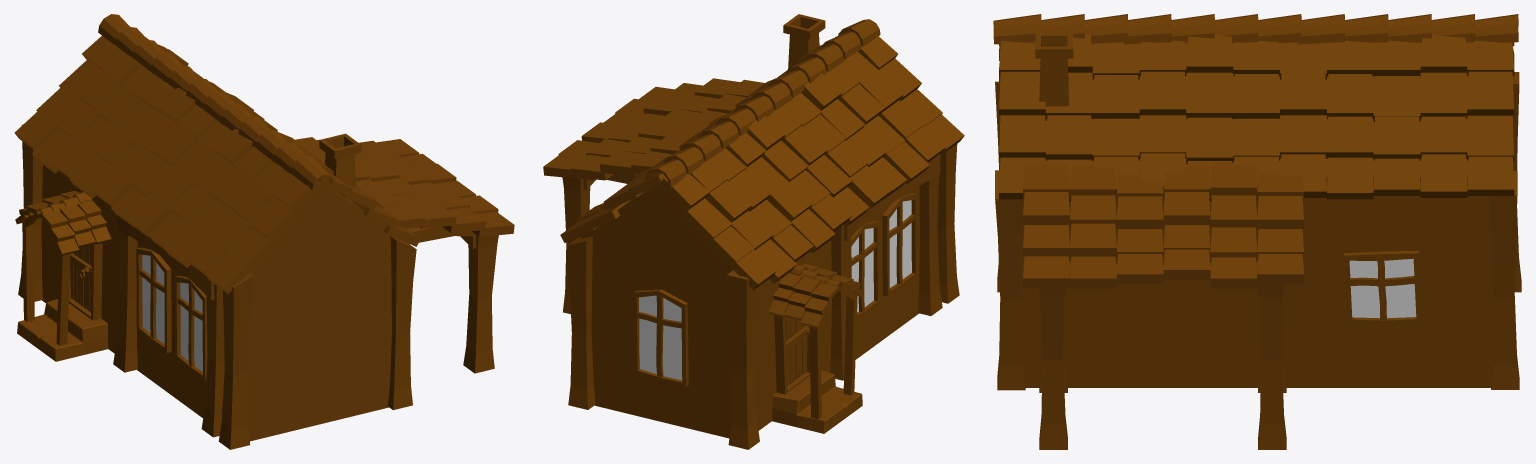
The model's file is дом5 .fbx.
The picture shows the model from 3 angles, left to right: view 1: azimuth 30°, elevation 25°; view 2: azimuth 150°, elevation 25°; view 3: azimuth 270°, elevation 25°; orthographic projection. The views are drawn at different scales.
Parts seen in each view (by area): view 1: Куб.015; view 2: Куб.015; view 3: Куб.015.
Boxes of the visible parts, x1,y1,x2,y2 form: Куб.015: [14, 14, 514, 449]; Куб.015: [543, 14, 964, 449]; Куб.015: [993, 14, 1521, 449].
Bounding box in the file's own units: 230 × 171 × 253.
